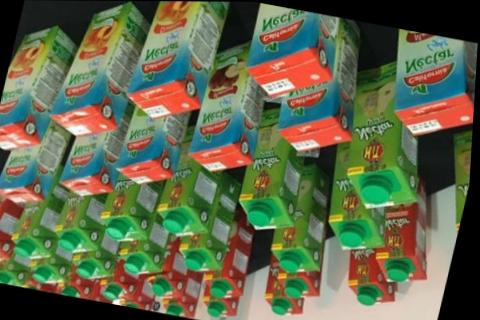cardboard: (303, 30, 476, 318), (247, 4, 358, 156), (246, 157, 328, 316), (52, 3, 148, 134), (349, 186, 458, 300), (128, 1, 227, 117), (156, 153, 243, 270), (0, 26, 74, 149), (190, 44, 261, 171), (395, 30, 476, 135), (42, 185, 116, 299), (240, 126, 306, 229), (105, 104, 188, 184), (0, 199, 70, 292), (100, 180, 167, 275), (196, 209, 253, 319), (0, 121, 73, 196), (145, 234, 209, 317), (0, 187, 41, 284), (60, 133, 112, 196), (348, 247, 396, 305)
